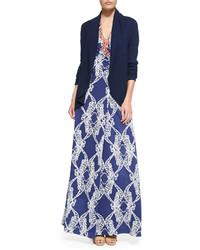C_cardigan sweater: (67, 10, 143, 111)
